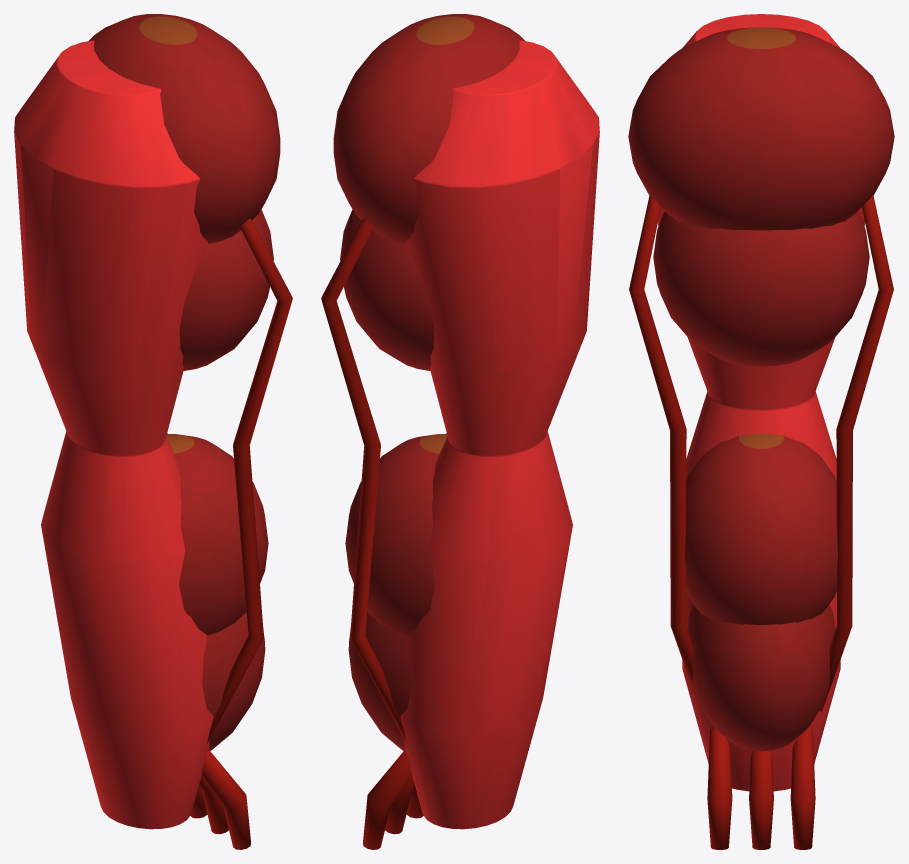
Rendered from SM_RV_GuardianArm.fbx.
3 renders of one model, left to right at view 1: azimuth 30°, elevation 25°; view 2: azimuth 150°, elevation 25°; view 3: azimuth 270°, elevation 25°, orthographic. The views are drawn at different scales.
Visible parts, largest first — view 1: SM_RV_GuardianArm; view 2: SM_RV_GuardianArm; view 3: SM_RV_GuardianArm.
Part boxes in pixels (x1,y1,x2,y2): SM_RV_GuardianArm: (14, 14, 292, 849); SM_RV_GuardianArm: (321, 14, 599, 849); SM_RV_GuardianArm: (628, 14, 894, 849).
Bounding box in the file's own units: 32 × 30 × 105.
